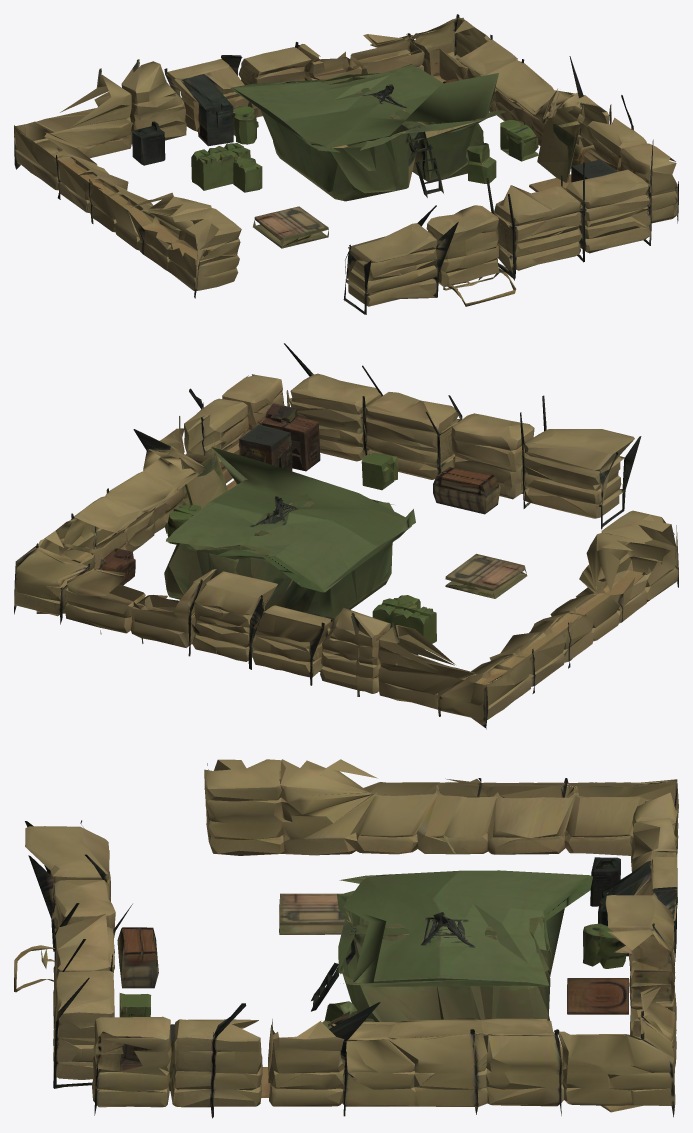
Rendered from camp_wreck.glb.
3 renders of one model, top to bottom at view 1: azimuth 30°, elevation 25°; view 2: azimuth 150°, elevation 25°; view 3: azimuth 270°, elevation 25°, orthographic. The views are drawn at different scales.
Visible parts, largest first — view 1: wall.001; view 2: wall.001; view 3: wall.001.
Part boxes in pixels (x1=…): wall.001: x1=14, y1=14, x2=678, y2=314; wall.001: x1=14, y1=343, x2=678, y2=729; wall.001: x1=14, y1=759, x2=678, y2=1118.
Bounding box in the file's own units: 7.54 × 1.54 × 7.5.
Materials: 1 (1 with a texture image).
